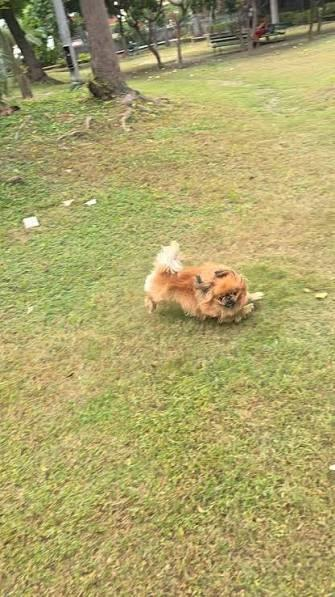adult_dog: (142, 241, 255, 324)
